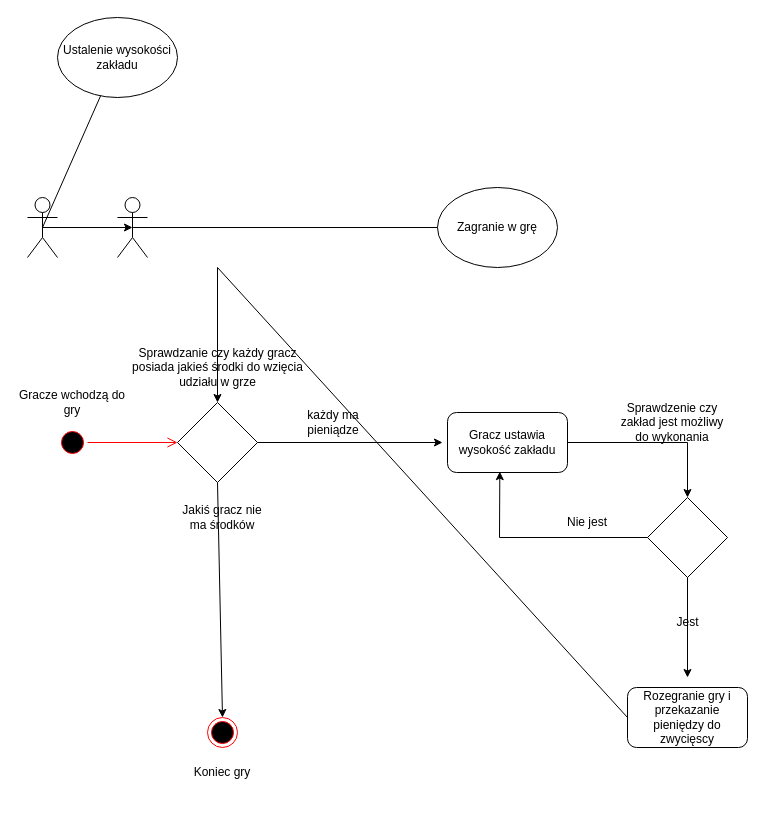
The diagram is 765 pixels wide and 813 high, and some of its shapes have lost their labels. Each missing label, with the box of its shape:
Gracz: (26, 196, 58, 258)
Komputer: (116, 196, 148, 258)
